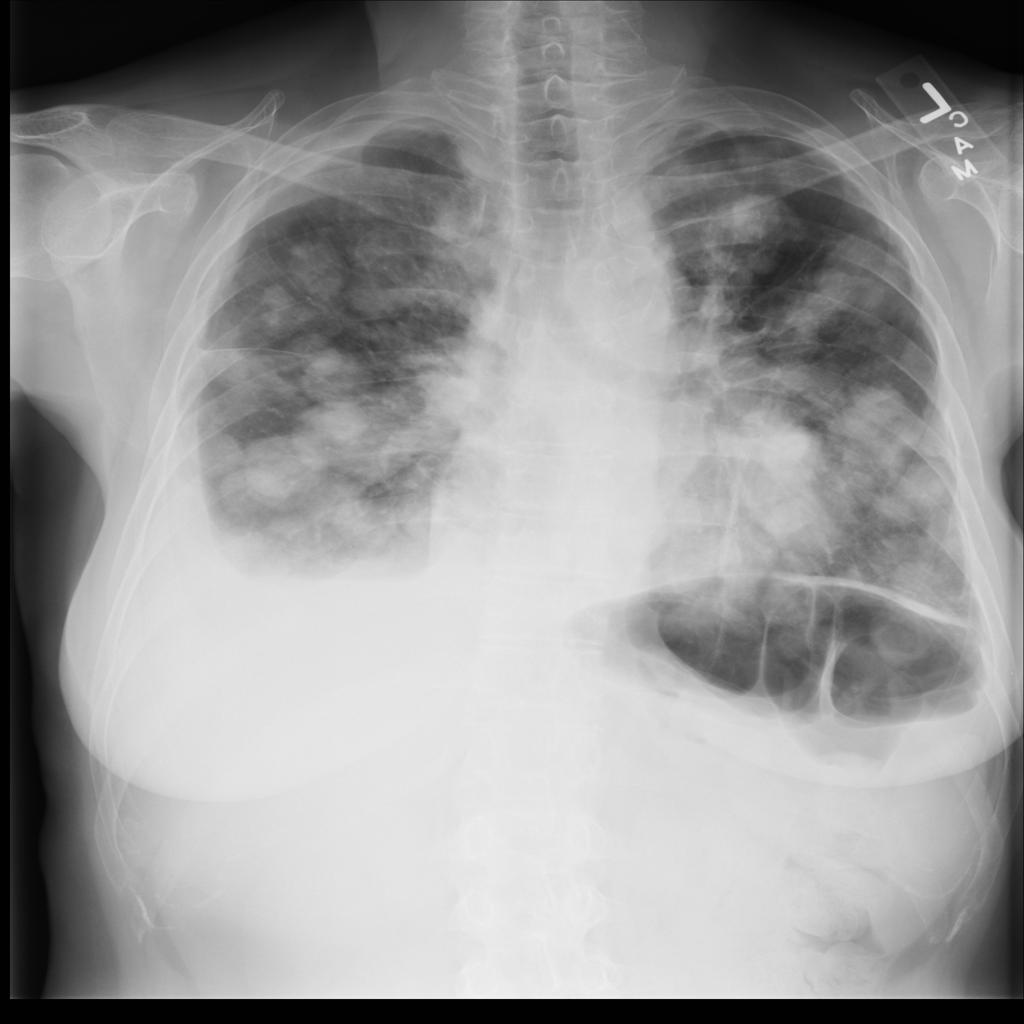nodule: (699, 391, 845, 557), (806, 374, 947, 488), (858, 559, 967, 669), (694, 174, 813, 271), (348, 231, 434, 327), (273, 230, 358, 306), (232, 437, 317, 507), (316, 485, 401, 552), (300, 396, 389, 457), (885, 450, 965, 515), (299, 344, 375, 408), (237, 284, 306, 348)
